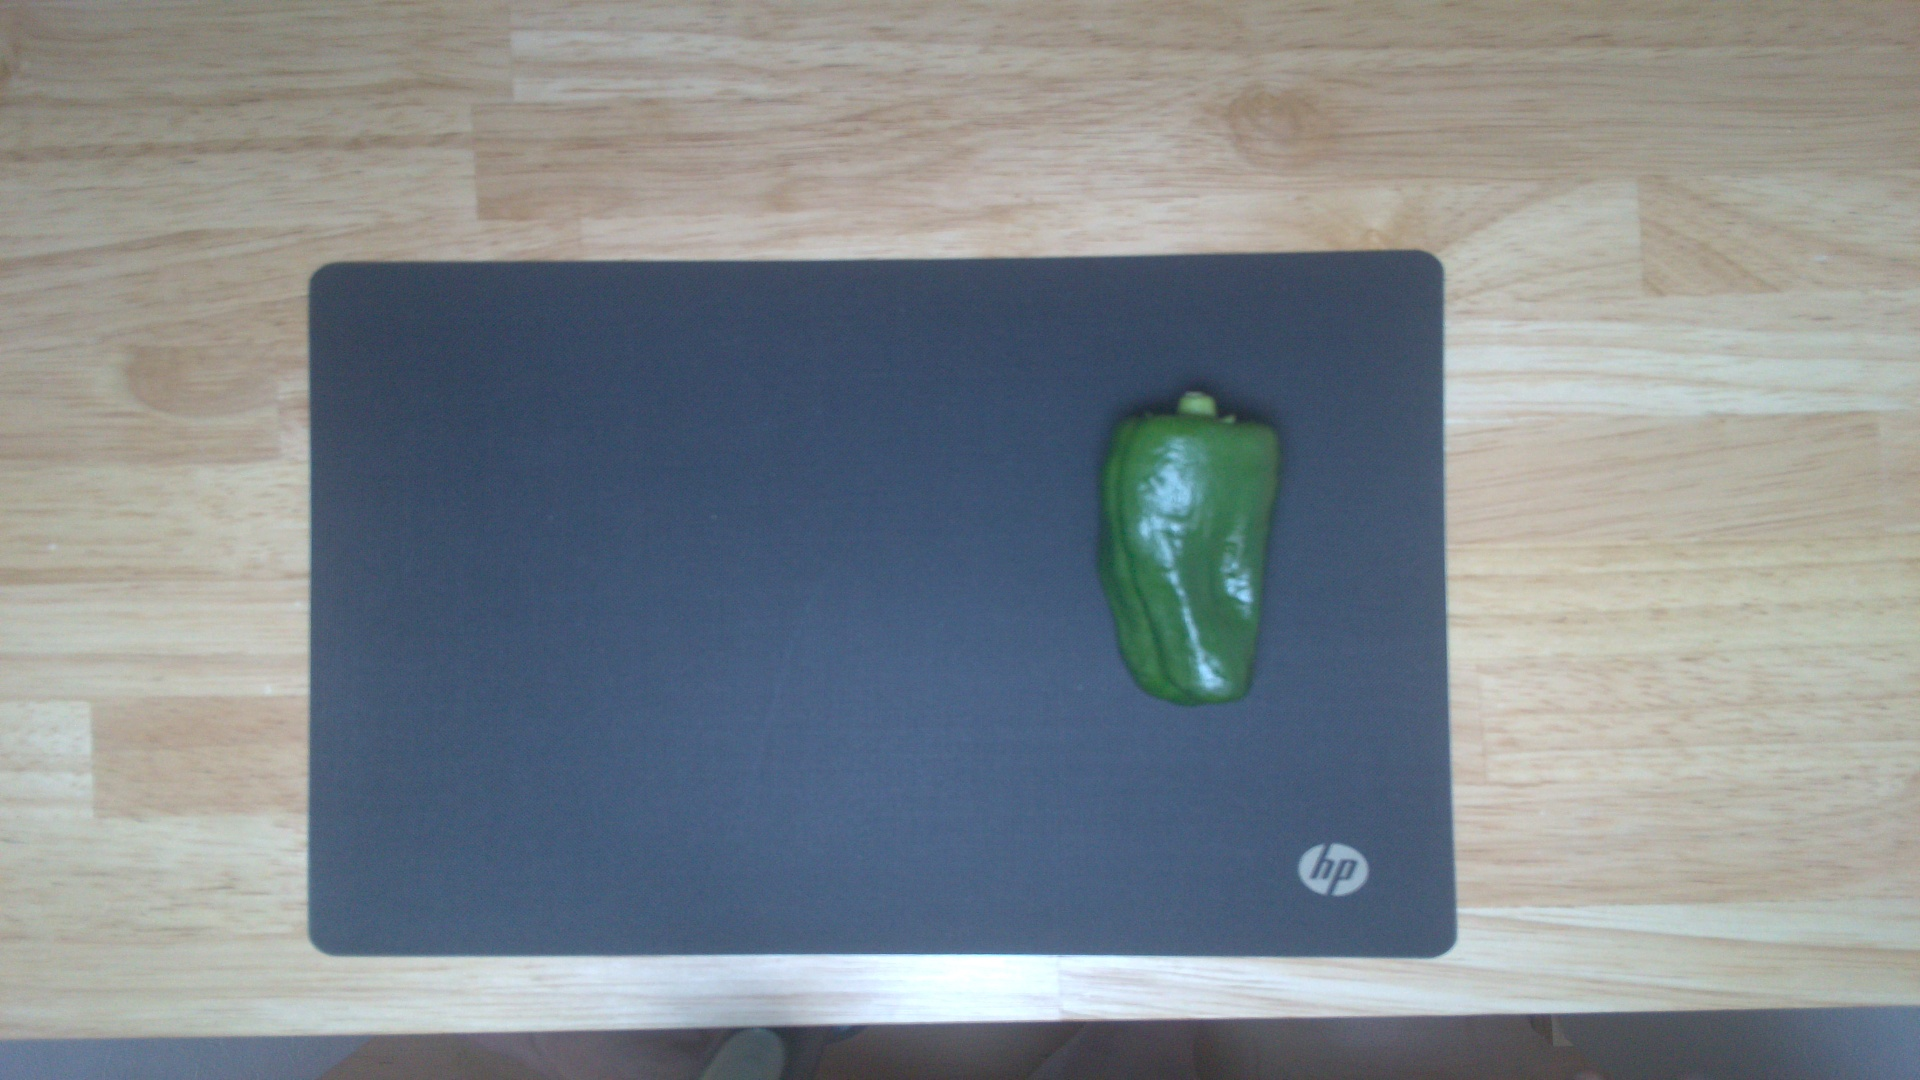Piman: (1093, 385, 1286, 705)
